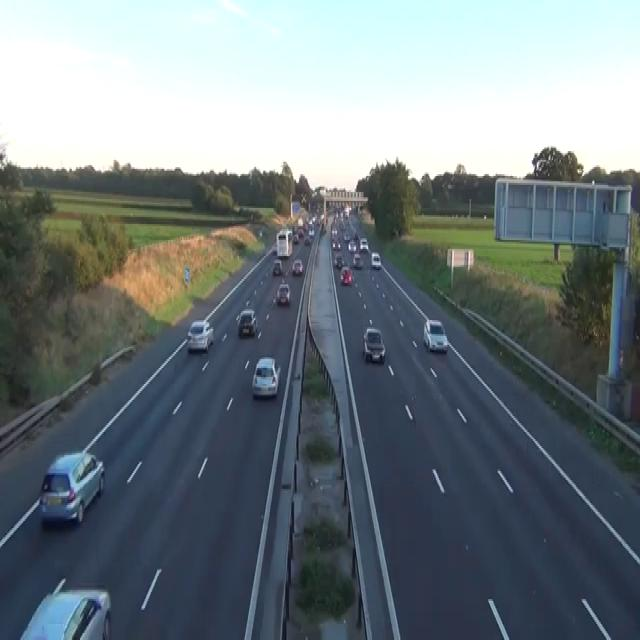Car: (19, 578, 111, 638), (38, 450, 105, 524), (251, 356, 281, 396), (186, 318, 213, 352), (422, 318, 448, 352), (363, 325, 385, 363), (235, 308, 257, 336), (275, 283, 290, 304), (340, 266, 353, 284), (291, 258, 303, 276), (371, 250, 381, 268), (352, 252, 363, 268), (333, 252, 344, 268), (272, 258, 282, 274), (359, 238, 368, 251), (331, 240, 341, 251), (347, 240, 356, 251), (343, 204, 350, 217), (292, 233, 299, 243), (343, 233, 350, 242), (304, 235, 310, 245), (331, 226, 337, 236), (297, 217, 303, 226), (272, 242, 276, 254), (308, 228, 314, 236), (297, 228, 303, 236), (320, 213, 324, 224), (259, 228, 262, 236)
Truck: (275, 228, 293, 258)
